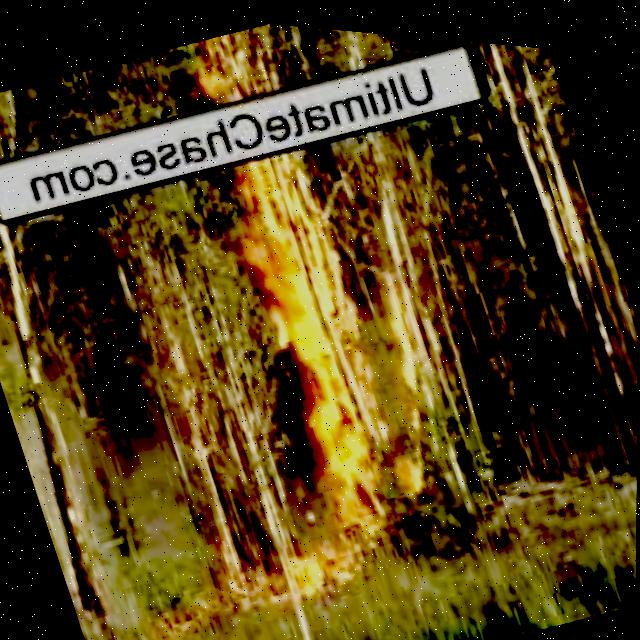Fire: (212, 138, 397, 460), (234, 445, 424, 618), (347, 224, 458, 412), (179, 19, 269, 113)
